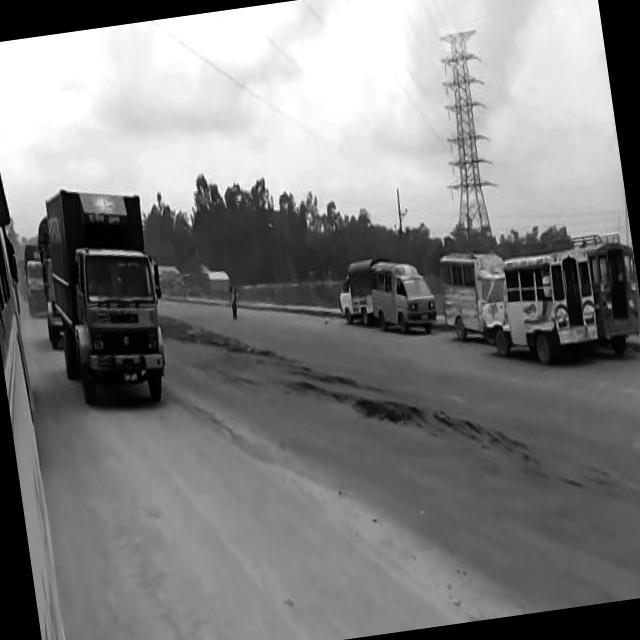bus: (469, 233, 602, 370), (572, 224, 640, 353), (434, 238, 513, 343), (365, 249, 441, 337), (331, 254, 378, 325)
truck: (37, 174, 173, 414), (29, 210, 65, 349), (18, 238, 47, 312)
